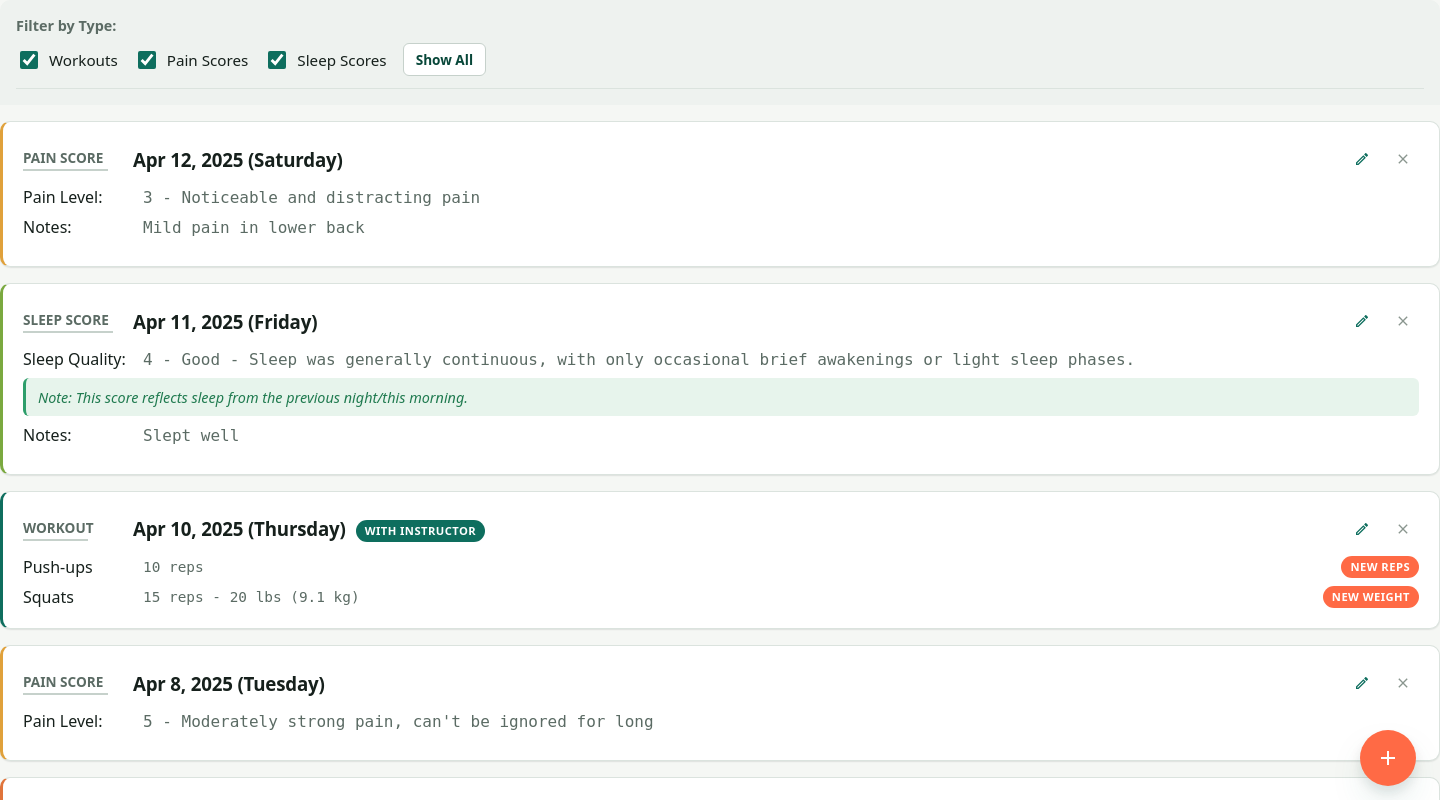
Test case: ListView › handles pain score deletion error
expect the heading "Apr 12, 2025 (Saturday)" is shown: met, box [133,146,343,172]
# Click the first delete button, then confirm in the modal
Click the button titled "Delete pain score" in the row of "Apr 12, 2025 (Saturday)": (1403, 159) [1387,143,1419,175]
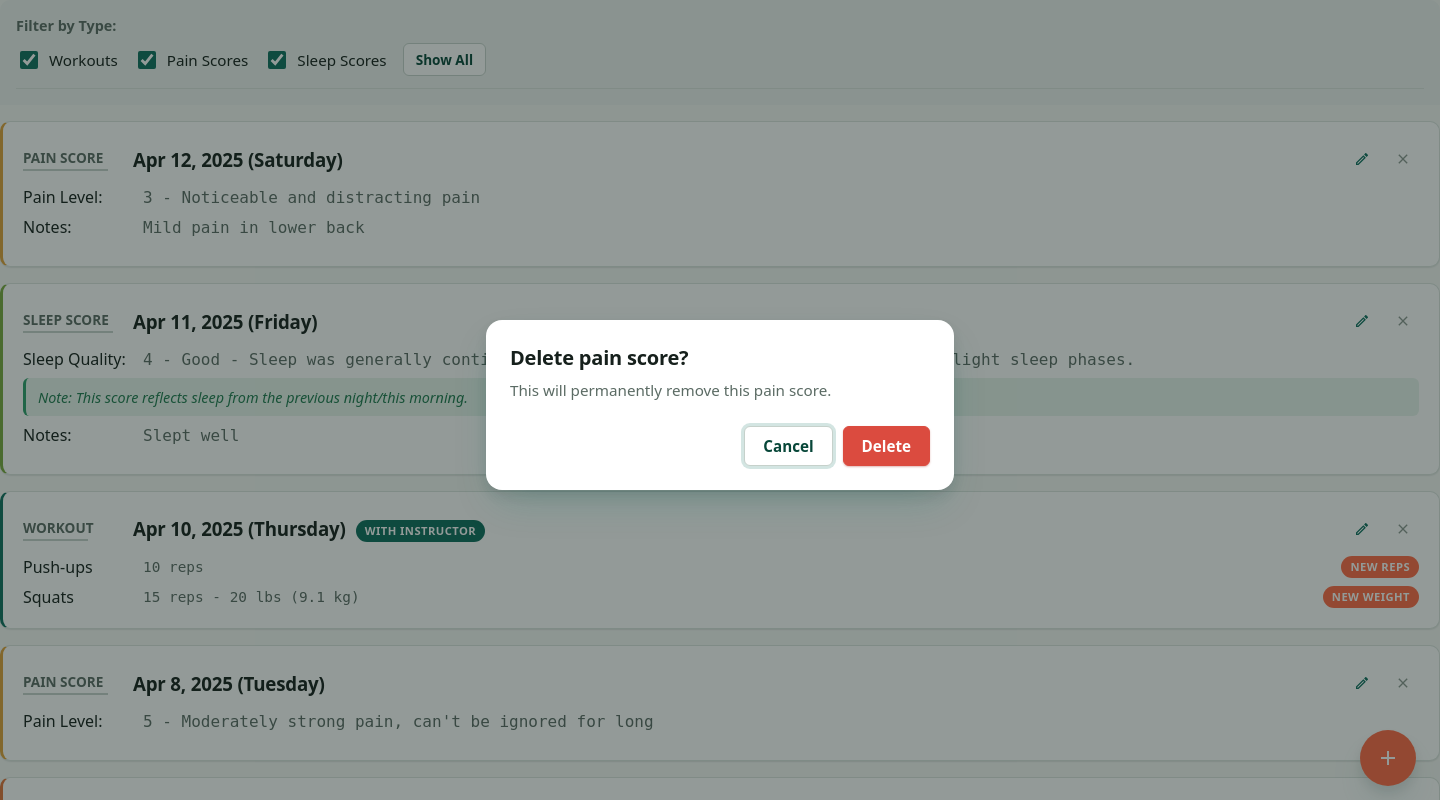
Click the button "Delete": (886, 446) [843,426,930,466]
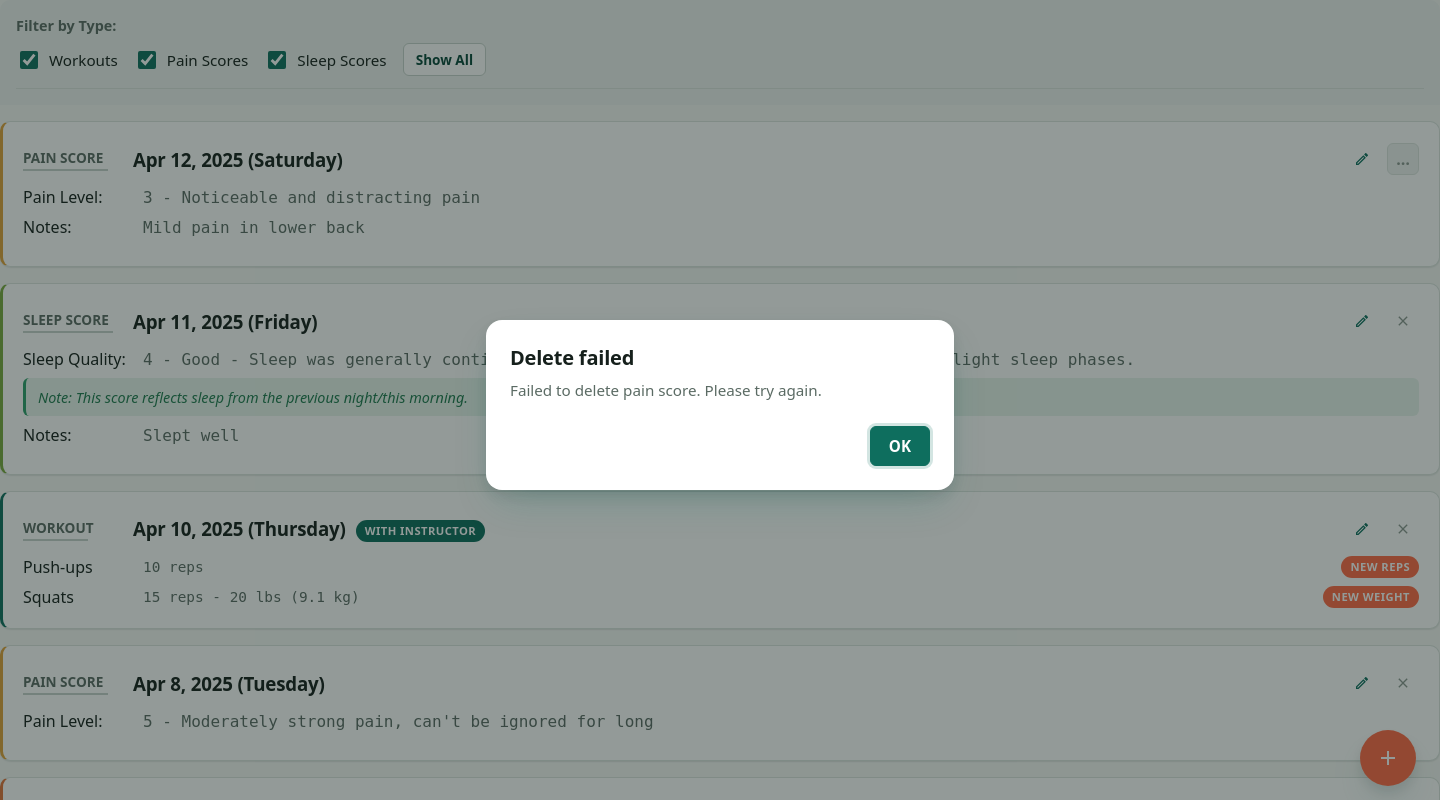
expect the text "Failed to delete pain score. Please try again." is shown: met, box [510,380,822,400]
